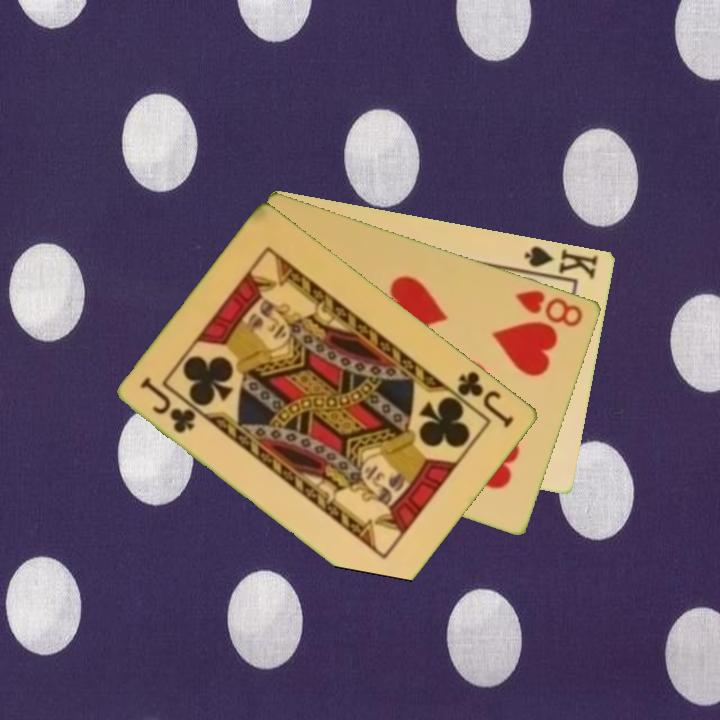8h: (512, 286, 587, 330)
Jc: (454, 367, 518, 431), (137, 373, 200, 437)
Ks: (521, 242, 602, 282)
